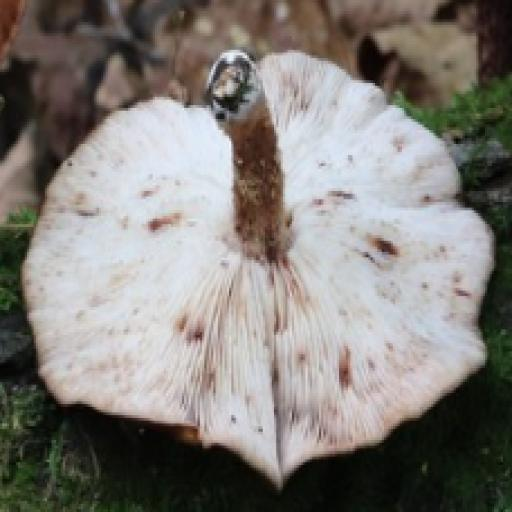Shiitake Mushroom: (0, 9, 512, 512)
